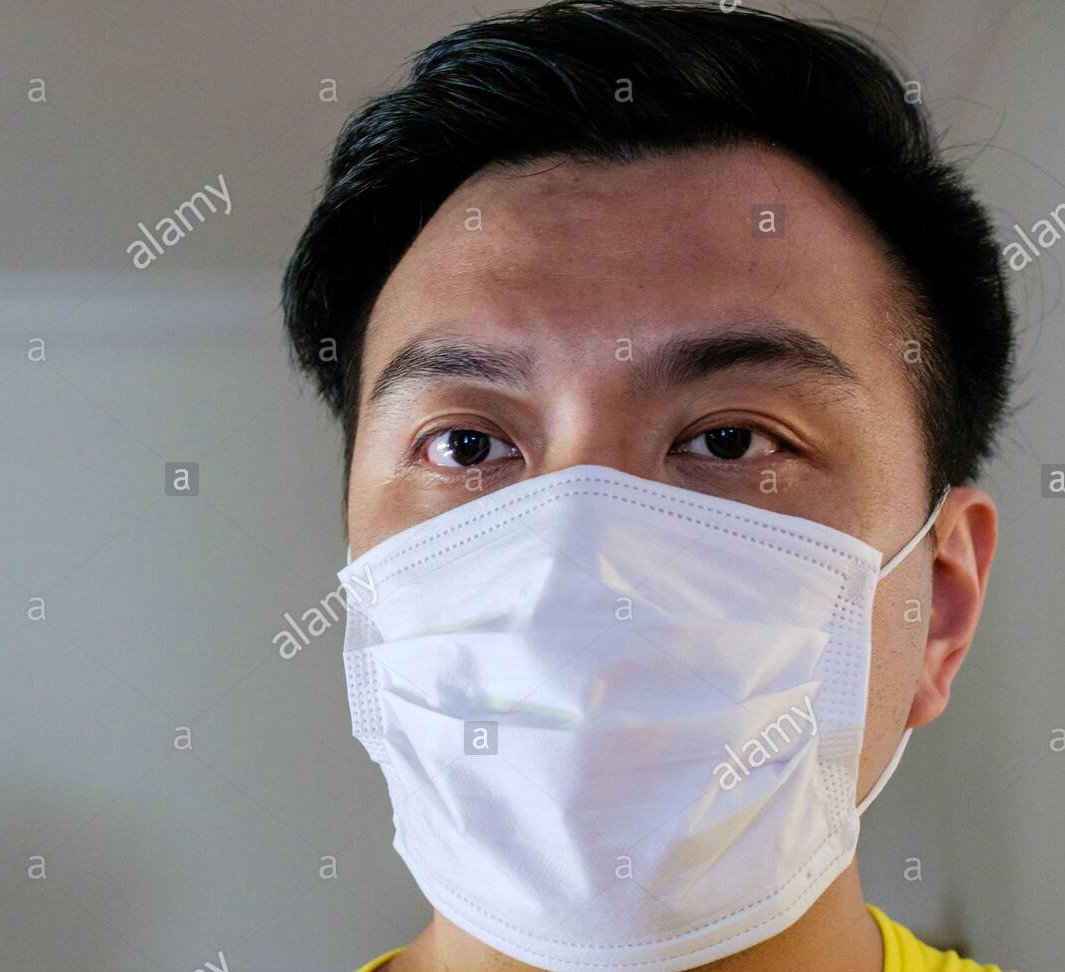with_mask: (273, 56, 1054, 956)
